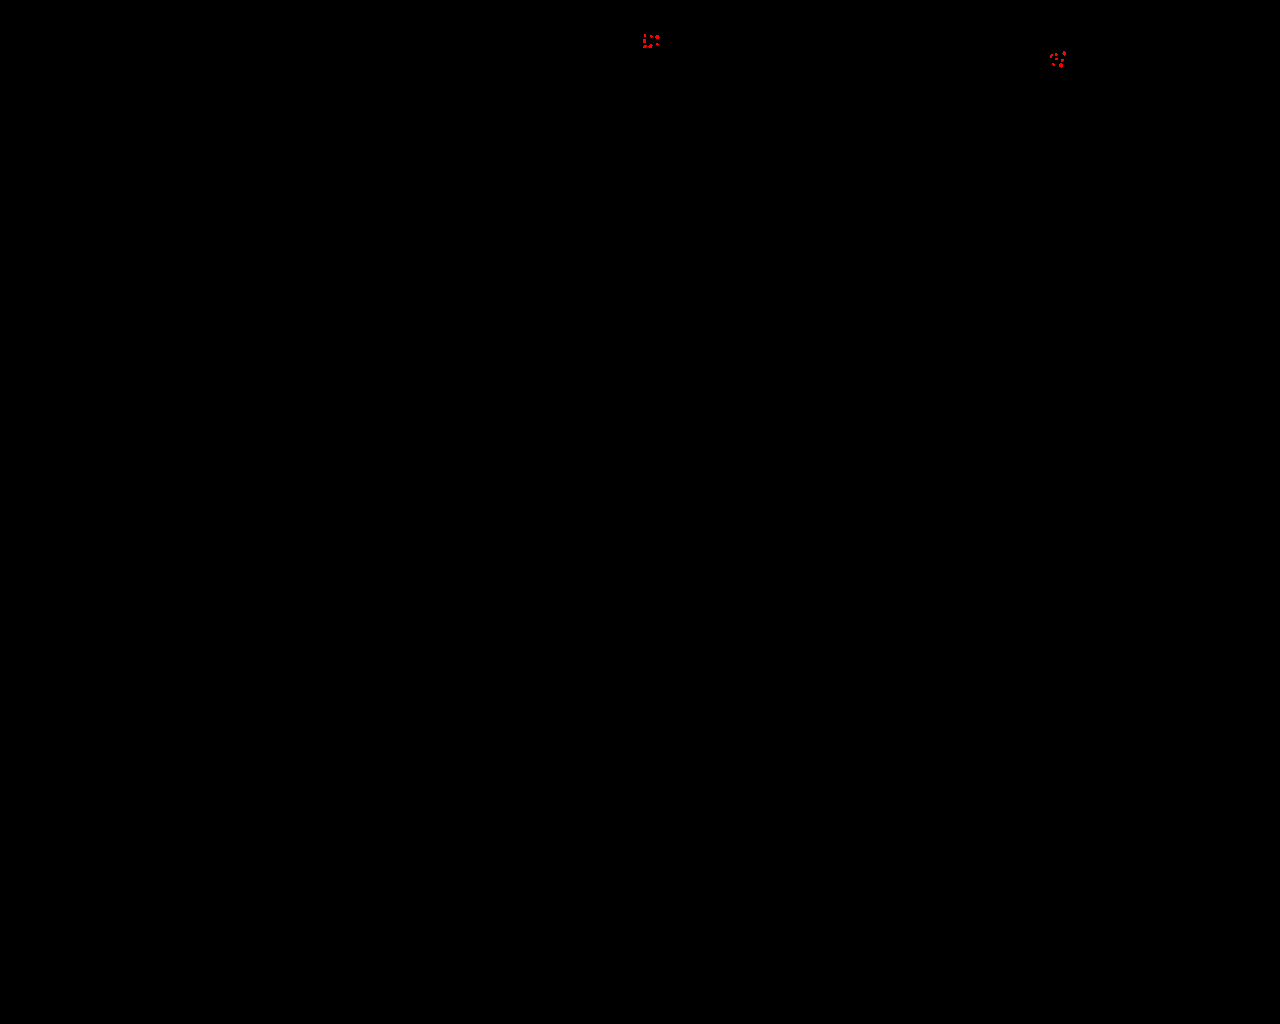Target: (655, 34, 660, 39), (648, 44, 653, 48), (1062, 51, 1066, 56), (1058, 63, 1063, 68), (643, 39, 646, 43), (643, 45, 647, 48), (1050, 54, 1053, 59), (650, 34, 653, 38), (656, 43, 659, 46), (1055, 53, 1058, 56), (1061, 59, 1064, 62), (1052, 63, 1055, 66), (644, 34, 646, 37), (1055, 59, 1058, 60)
